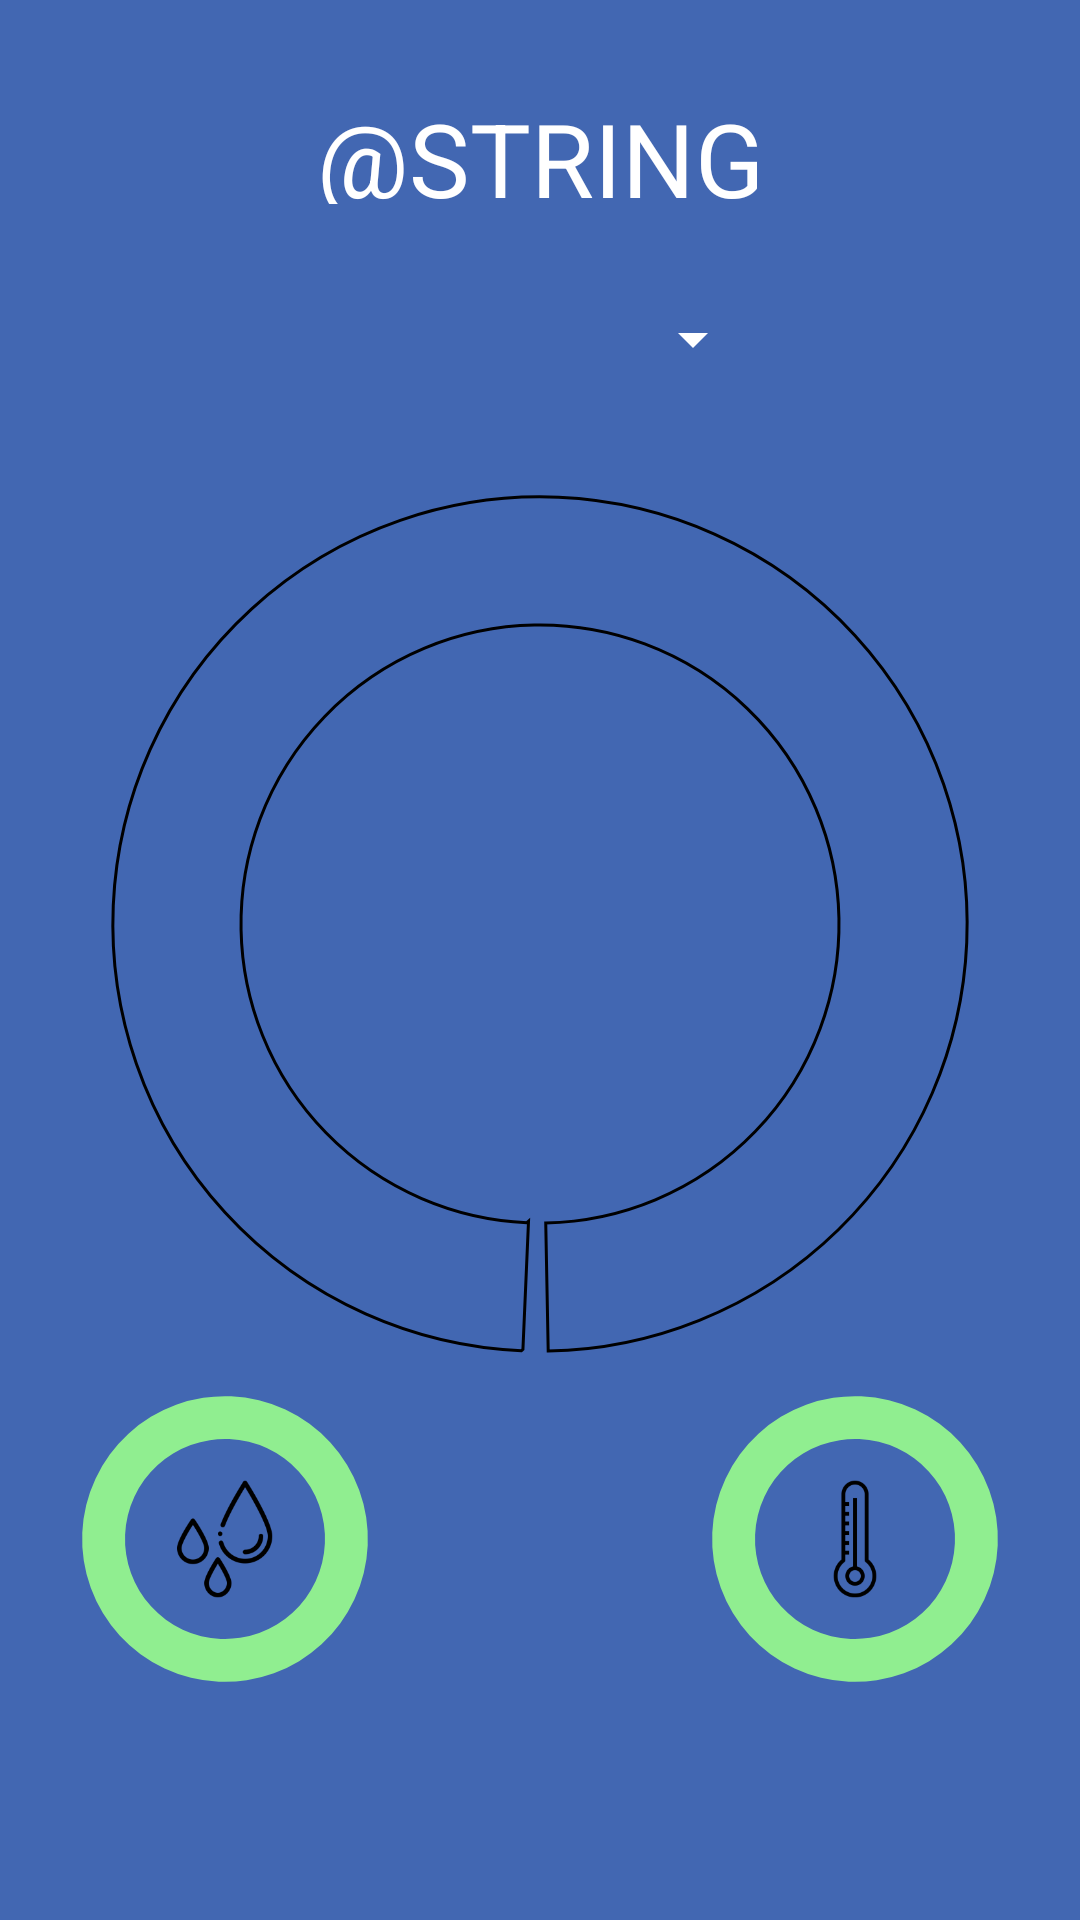

Locate icon controls on the screen. Image size 1080px x 1920px, boxes as (x1, y1, x2, y2).
drops: (125, 1439, 325, 1639)
temperatura: (755, 1439, 955, 1639)
